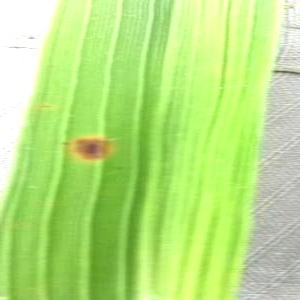Bacterial_Leaf_Blight: (66, 127, 123, 173), (38, 101, 56, 112), (59, 136, 71, 148)
